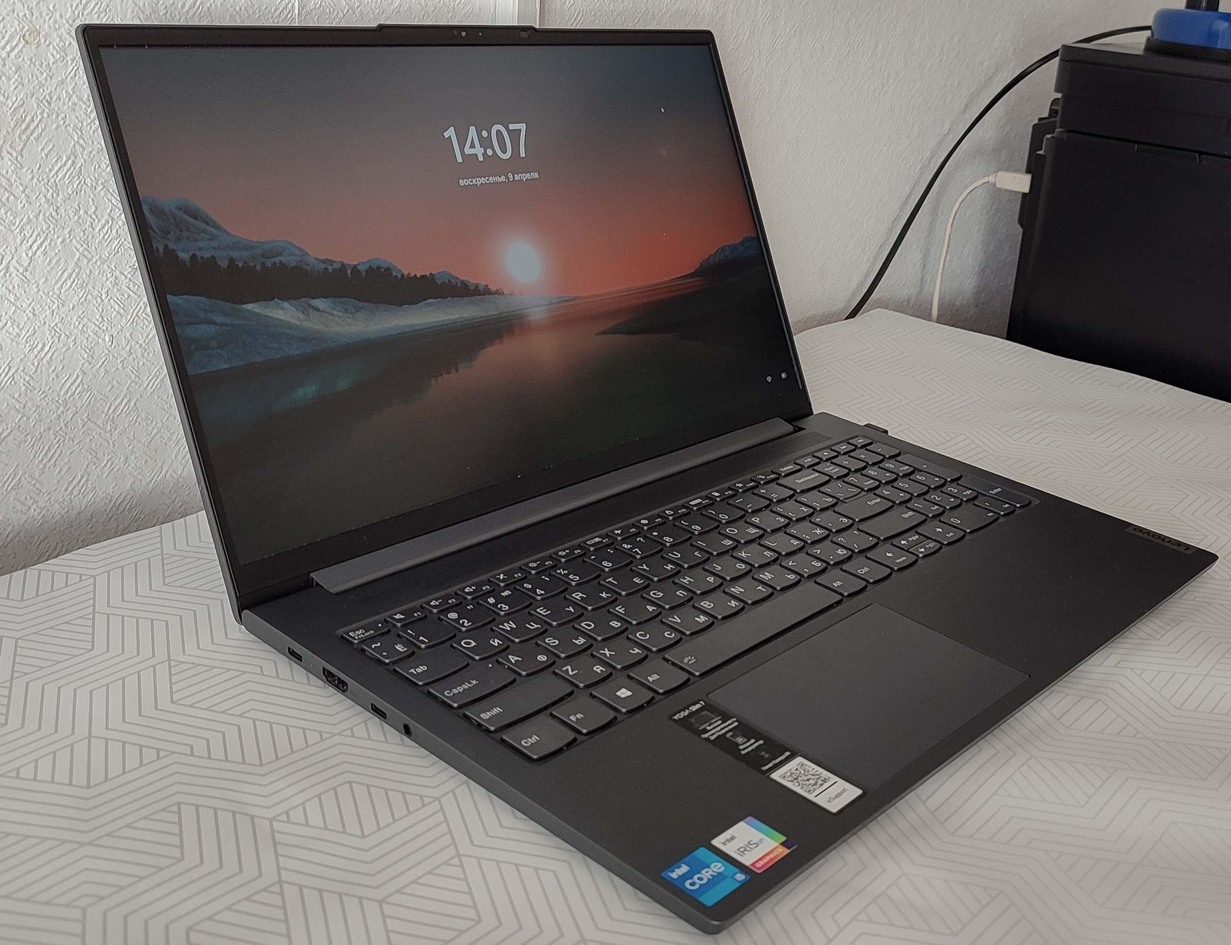monitor: (75, 22, 818, 627)
